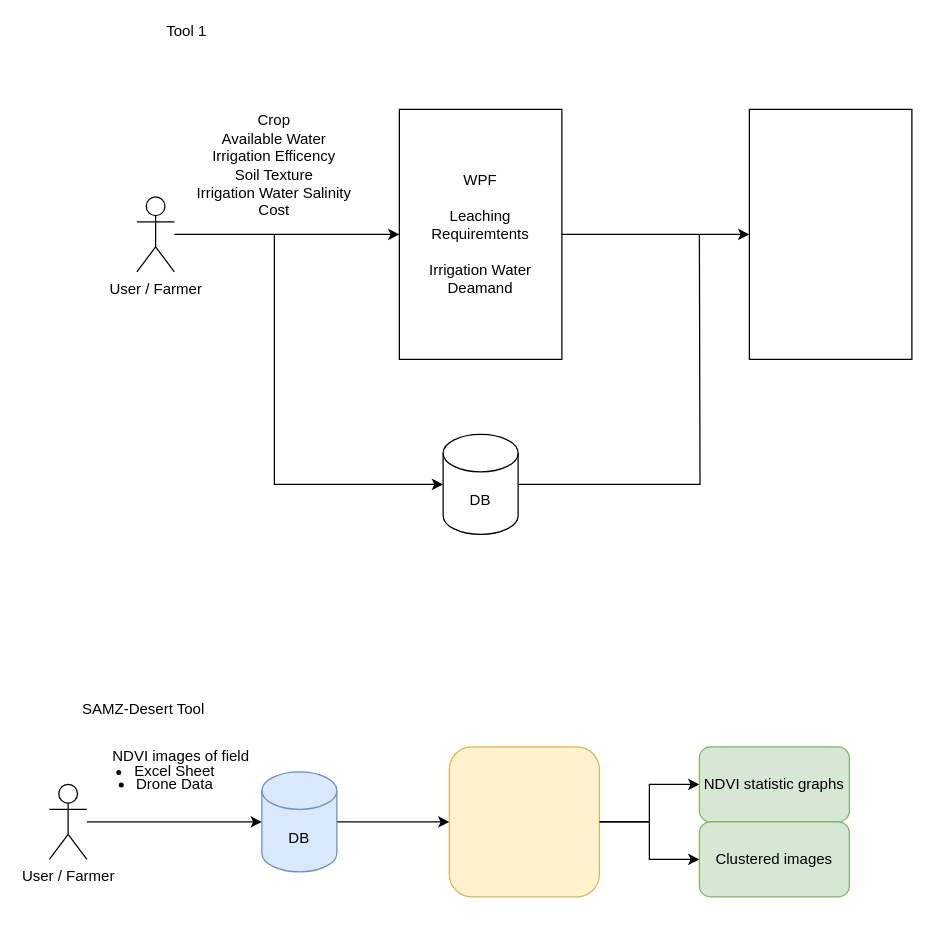
This 934x943 diagram has some shape labels left out. Each missing label, with the box of its shape:
Background Processing: (448, 746, 599, 897)
Yield Recommendations Profit: (748, 108, 912, 359)
